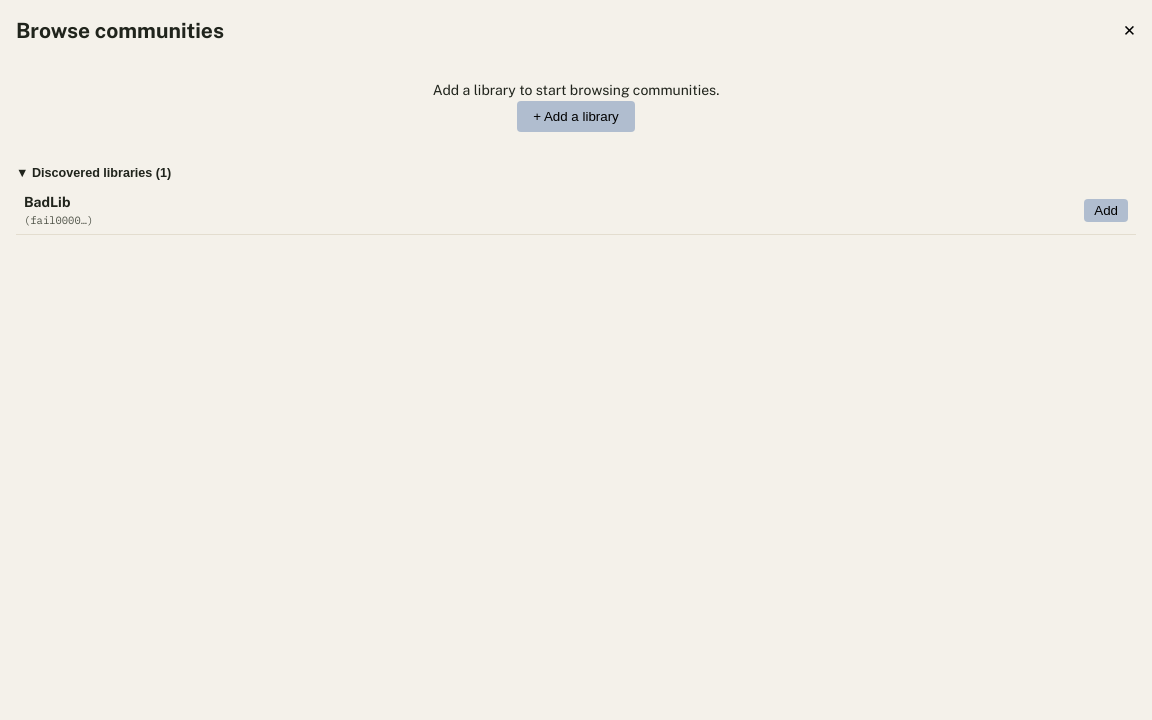
LibraryDirectoryBrowser › Discovered libraries panel › add_failure_surfaces_inline
Click the button "Add": (1106, 211) x1=1084 y1=199 x2=1128 y2=222
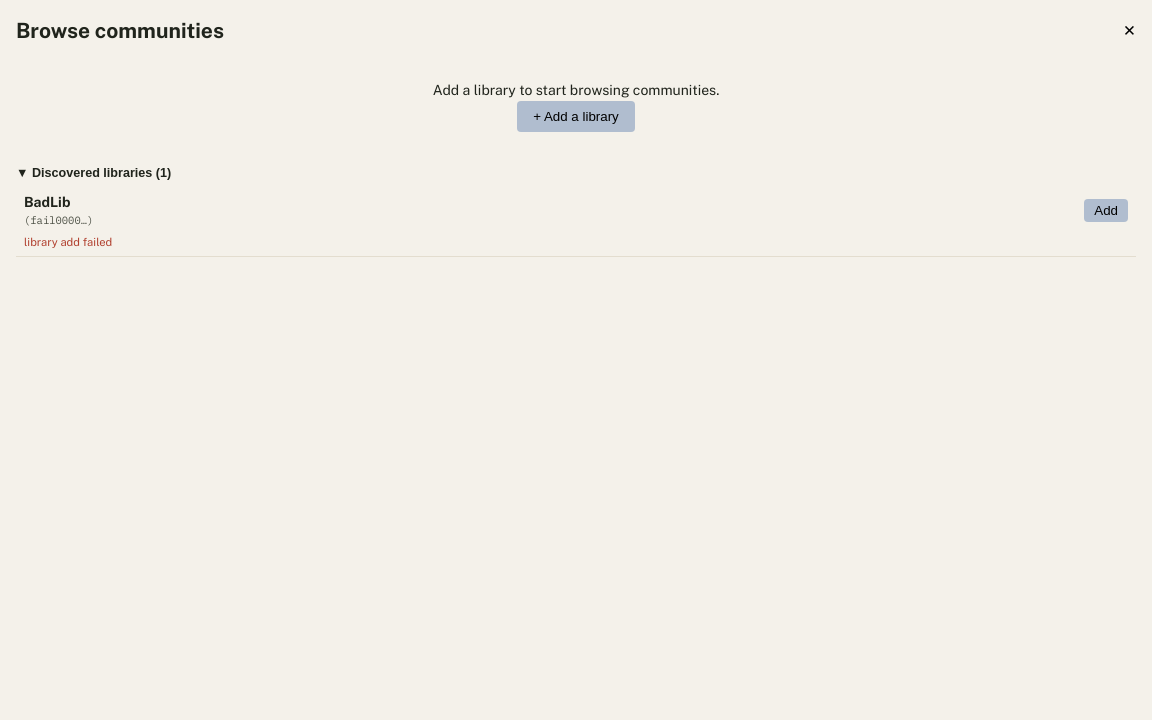
Expected: the text "library add failed" is shown, x1=24 y1=235 x2=112 y2=249
